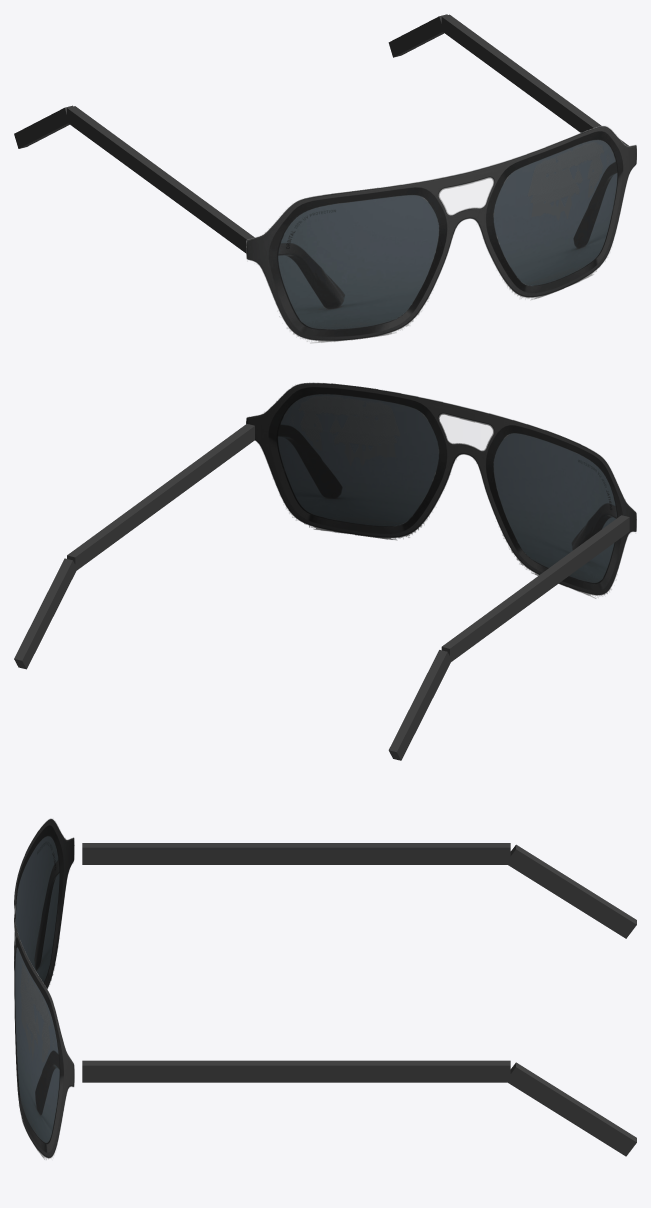
The picture shows the model from 3 angles, top to bottom: view 1: azimuth 30°, elevation 25°; view 2: azimuth 150°, elevation 25°; view 3: azimuth 270°, elevation 25°; orthographic projection. The views are drawn at different scales.
Parts seen in each view (by area): view 1: anteojo; view 2: anteojo; view 3: anteojo.
Boxes of the visible parts, x1=… form: anteojo: x1=14, y1=14, x2=636, y2=343; anteojo: x1=14, y1=382, x2=636, y2=760; anteojo: x1=14, y1=818, x2=636, y2=1159.
Size of the model in its own units: 0.142 by 0.0517 by 0.1644.
Materials: 2 (1 with a texture image).
